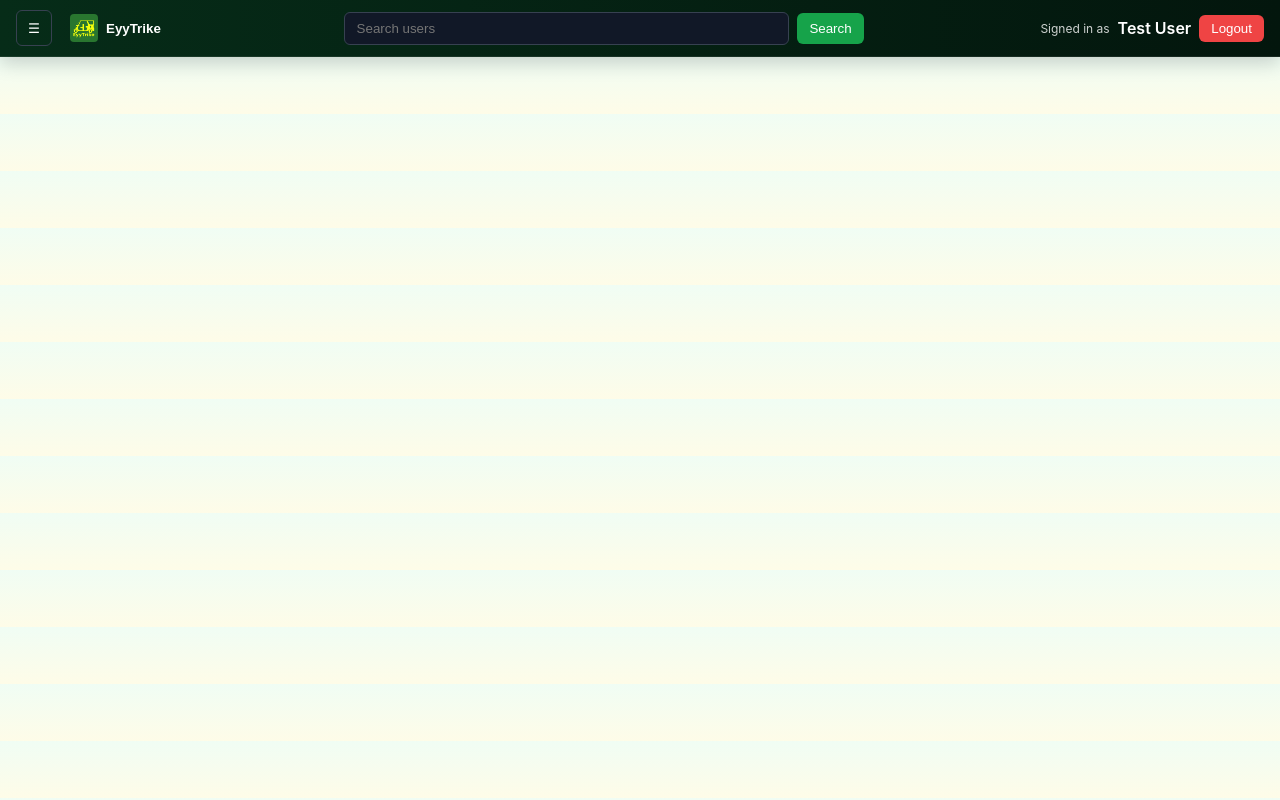
it: burger supports keyboard navigation and Escape closes
Step 1. Click the button named "open menu" → x=34, y=28, box [16,10,52,46]
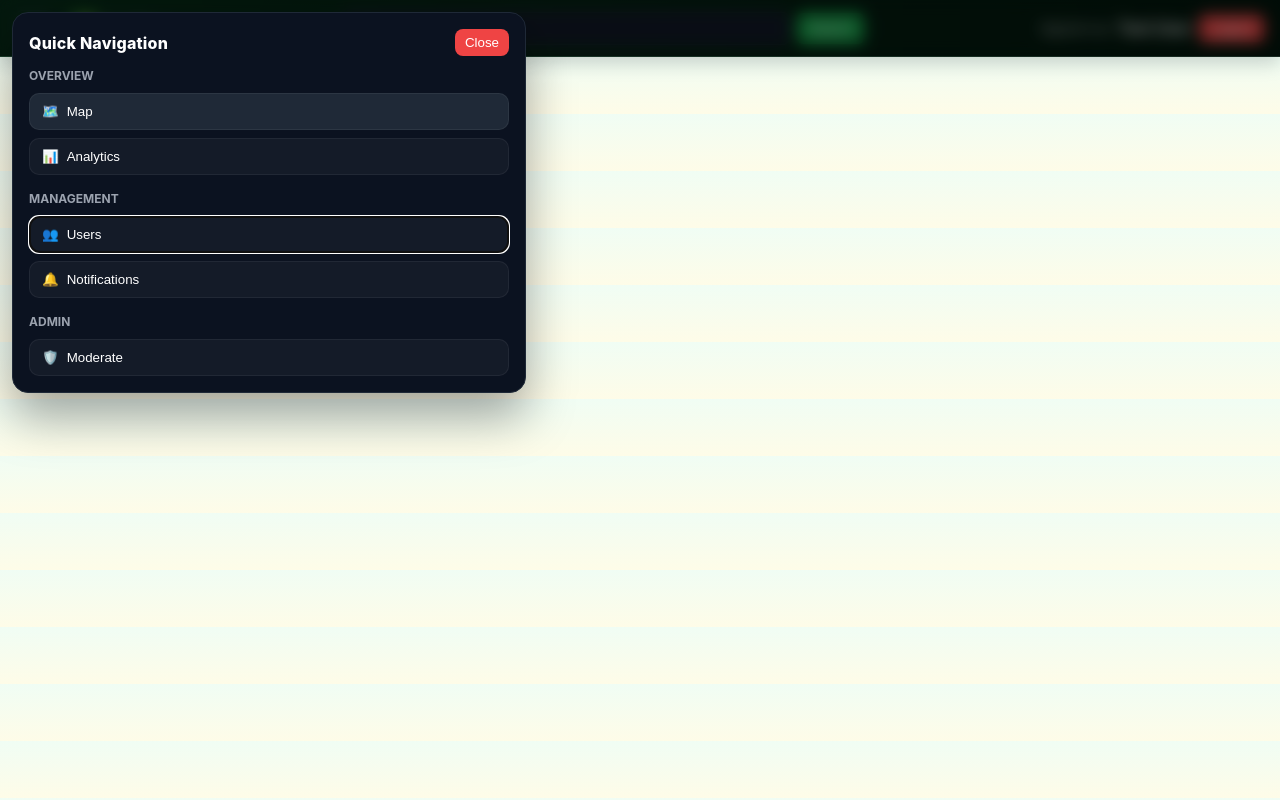
Step 2. Press ArrowDown in the menu item "👥 Users", box [29,216,509,253]
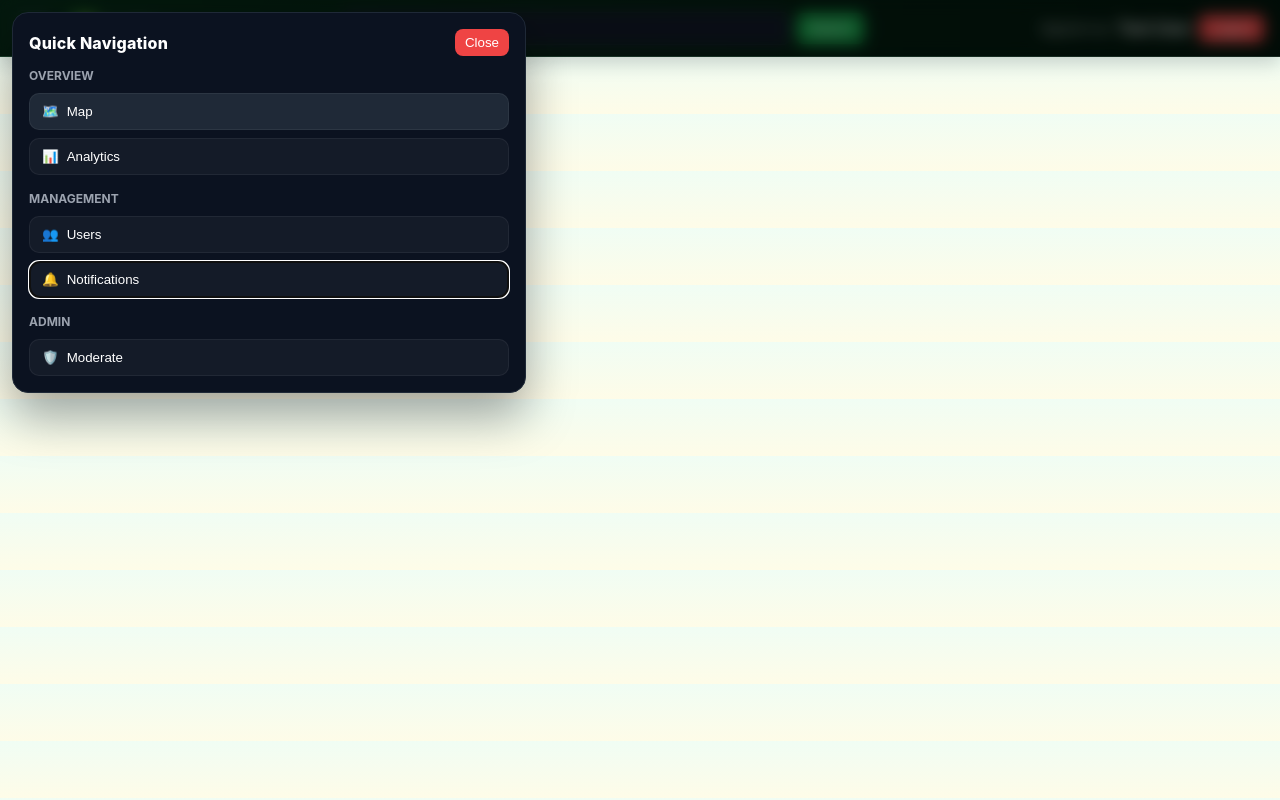
Step 3. Press Escape in the menu item "👥 Users", box [29,216,509,253]
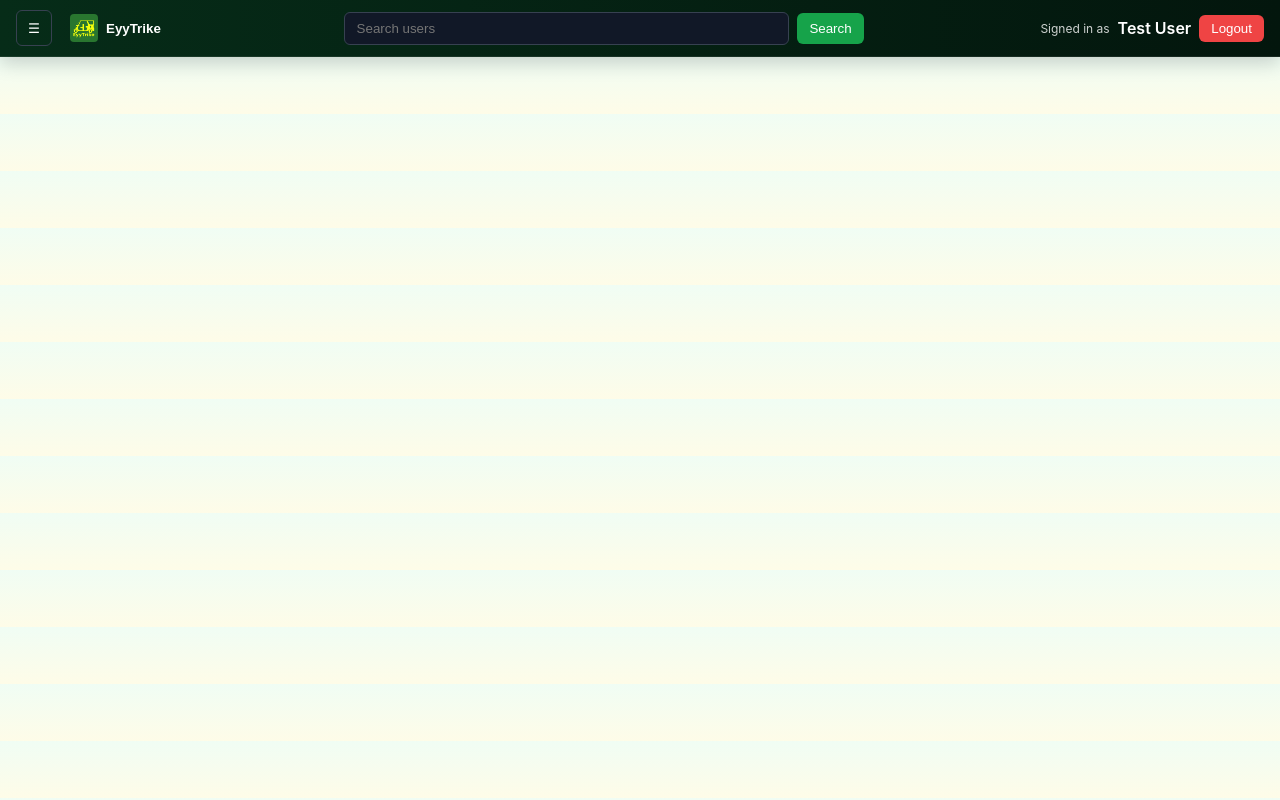
Now the menu "Main menu" is gone
